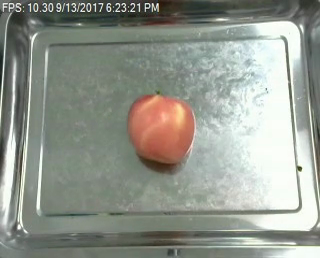Apple: (124, 91, 197, 166)
